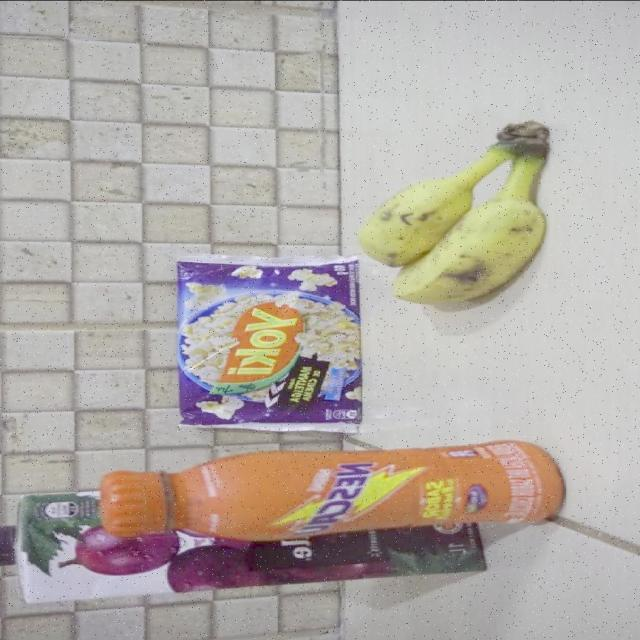Banana: (357, 119, 556, 305)
ChocolateMilk: (100, 438, 564, 539)
Popcorn: (175, 252, 358, 434)
